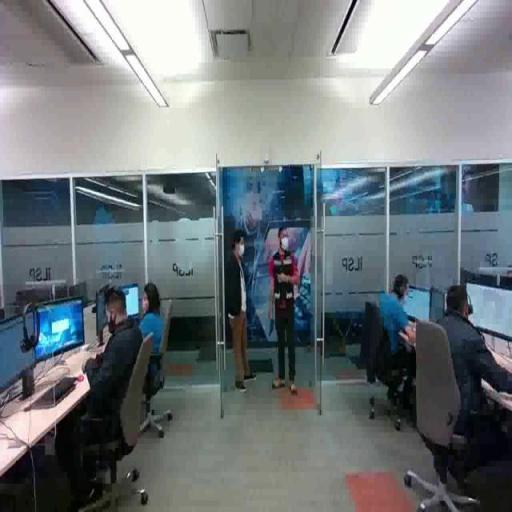person: (58, 280, 148, 465), (432, 282, 512, 467), (373, 275, 426, 412), (268, 222, 306, 396), (127, 283, 170, 408), (228, 231, 260, 394)
